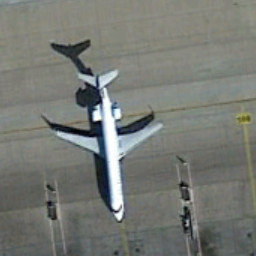Airplane: (44, 59, 168, 234)
